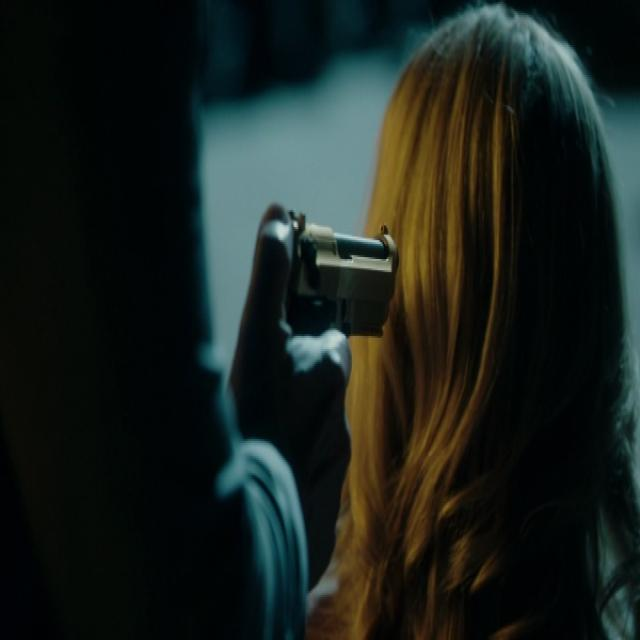weapons: (244, 158, 412, 482)
